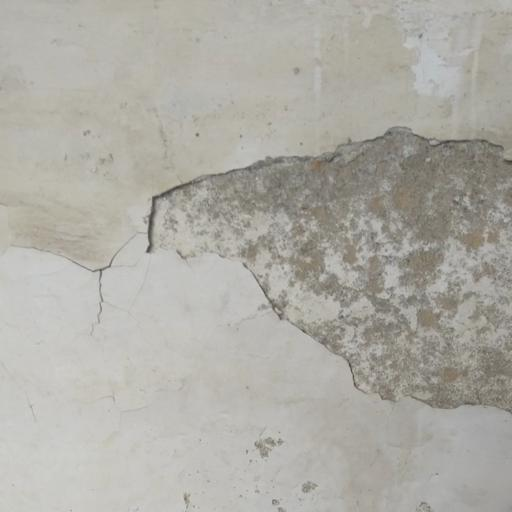peeling: (135, 113, 512, 426), (0, 218, 148, 343)
